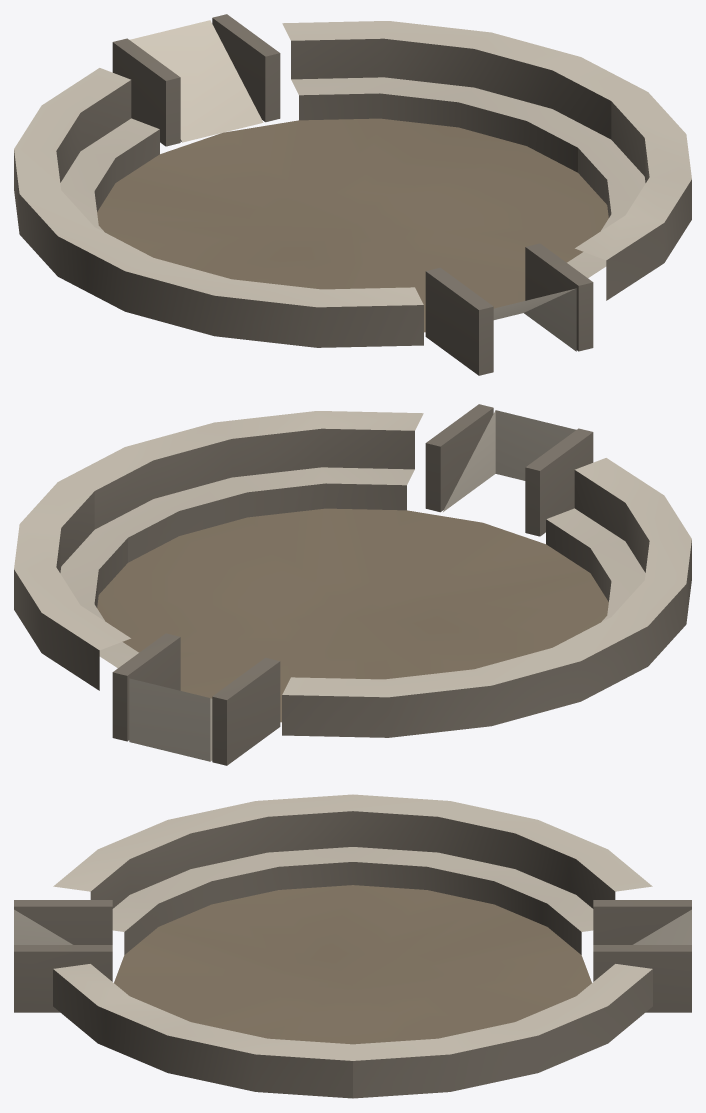
The model's file is caral_circular_plaza_lod1.glb.
The picture shows the model from 3 angles, top to bottom: view 1: azimuth 30°, elevation 25°; view 2: azimuth 150°, elevation 25°; view 3: azimuth 270°, elevation 25°; orthographic projection. The views are drawn at different scales.
Visible parts, largest first — view 1: GEO-Arch_circular_plaza_LOD1; view 2: GEO-Arch_circular_plaza_LOD1; view 3: GEO-Arch_circular_plaza_LOD1.
Boxes of the visible parts, x1,y1,x2,y2 form: GEO-Arch_circular_plaza_LOD1: (14, 14, 691, 375); GEO-Arch_circular_plaza_LOD1: (14, 404, 691, 765); GEO-Arch_circular_plaza_LOD1: (14, 794, 691, 1098).
Bounding box in the file's own units: 16 × 1.7 × 17.2.
